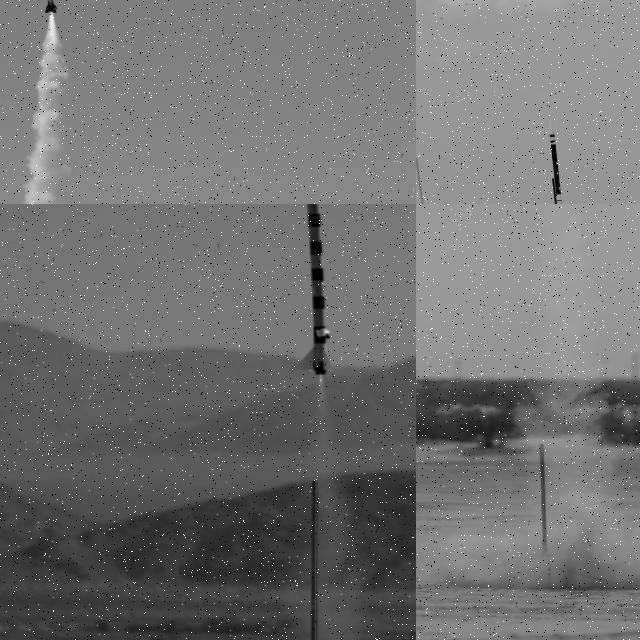Rocket: (292, 204, 335, 375), (549, 118, 563, 204), (45, 0, 58, 14)
